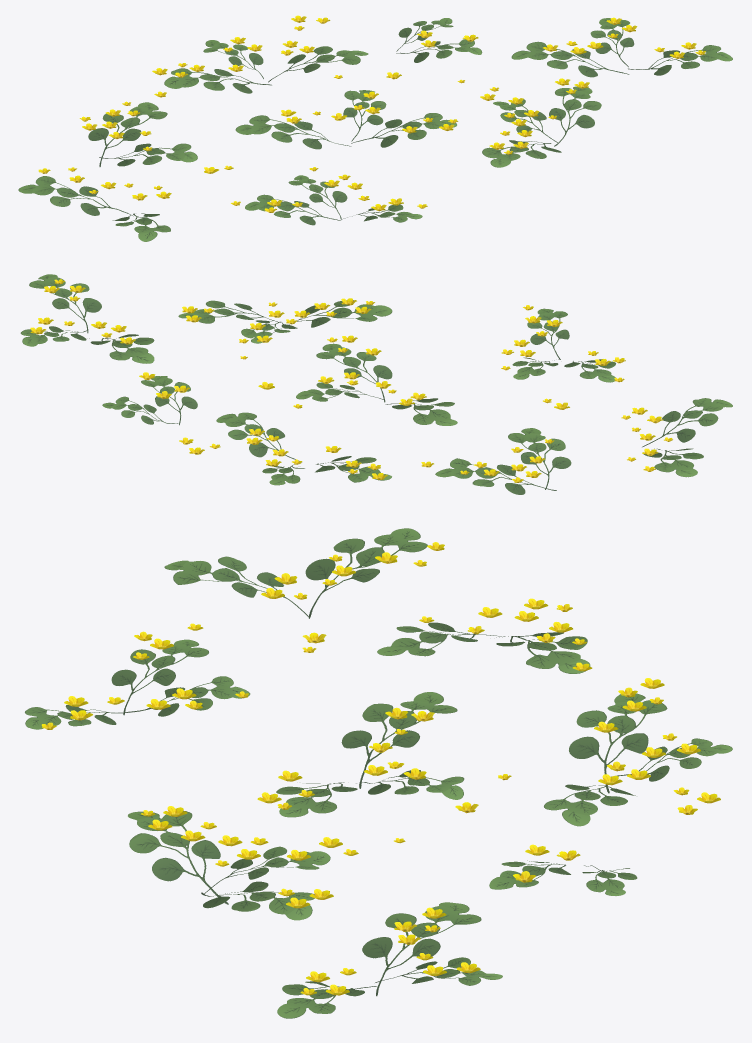
The model's file is flowers3.glb.
3 views of the same model, one above another, from view 1: azimuth 30°, elevation 25°; view 2: azimuth 150°, elevation 25°; view 3: azimuth 270°, elevation 25° (orthographic). The views are drawn at different scales.
Parts seen in each view (by area): view 1: leaves(noColl)(light), flowers(noColl)(light); view 2: leaves(noColl)(light), flowers(noColl)(light); view 3: leaves(noColl)(light), flowers(noColl)(light).
Boxes of the visible parts, box(x1,y1,x2,y2) form: leaves(noColl)(light): box(18, 18, 732, 241); flowers(noColl)(light): box(38, 15, 705, 212); leaves(noColl)(light): box(20, 274, 732, 494); flowers(noColl)(light): box(30, 279, 672, 482); leaves(noColl)(light): box(25, 528, 732, 1018); flowers(noColl)(light): box(41, 542, 720, 995).
Size of the model in its own units: 18.83 by 0.9027 by 11.59.
2 materials, 2 textured.
